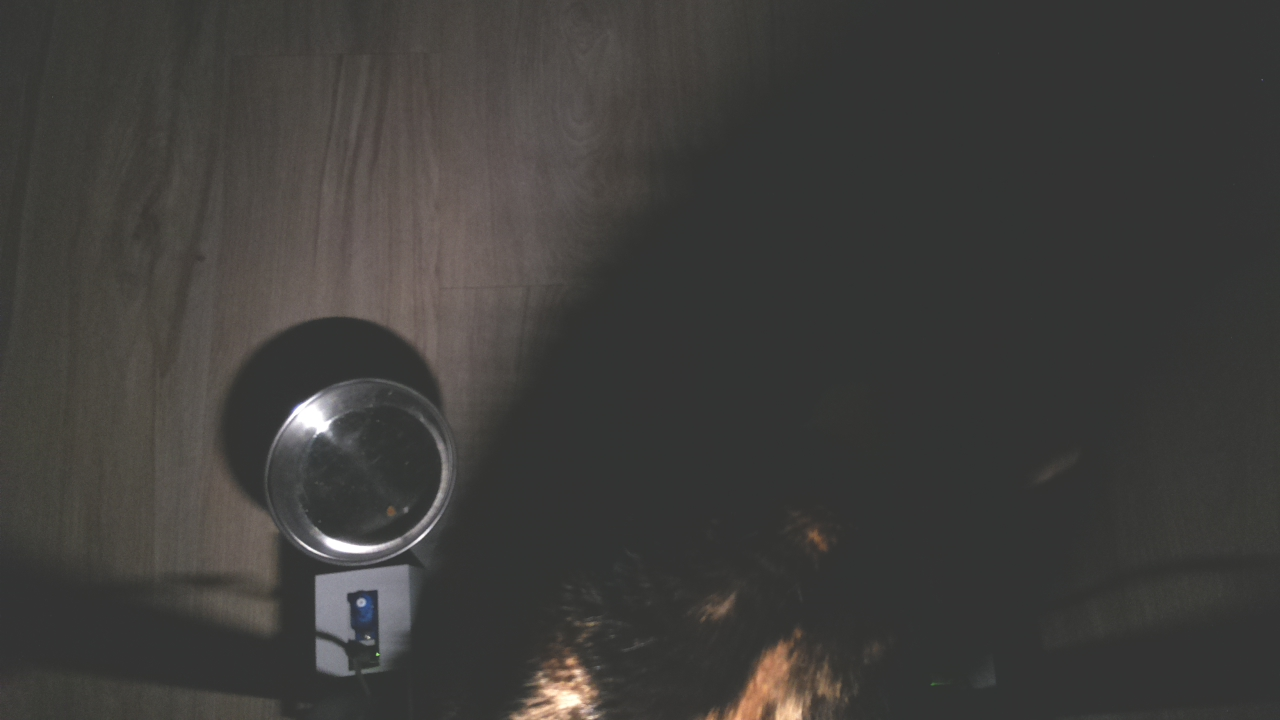open_bowl: (257, 368, 461, 571)
